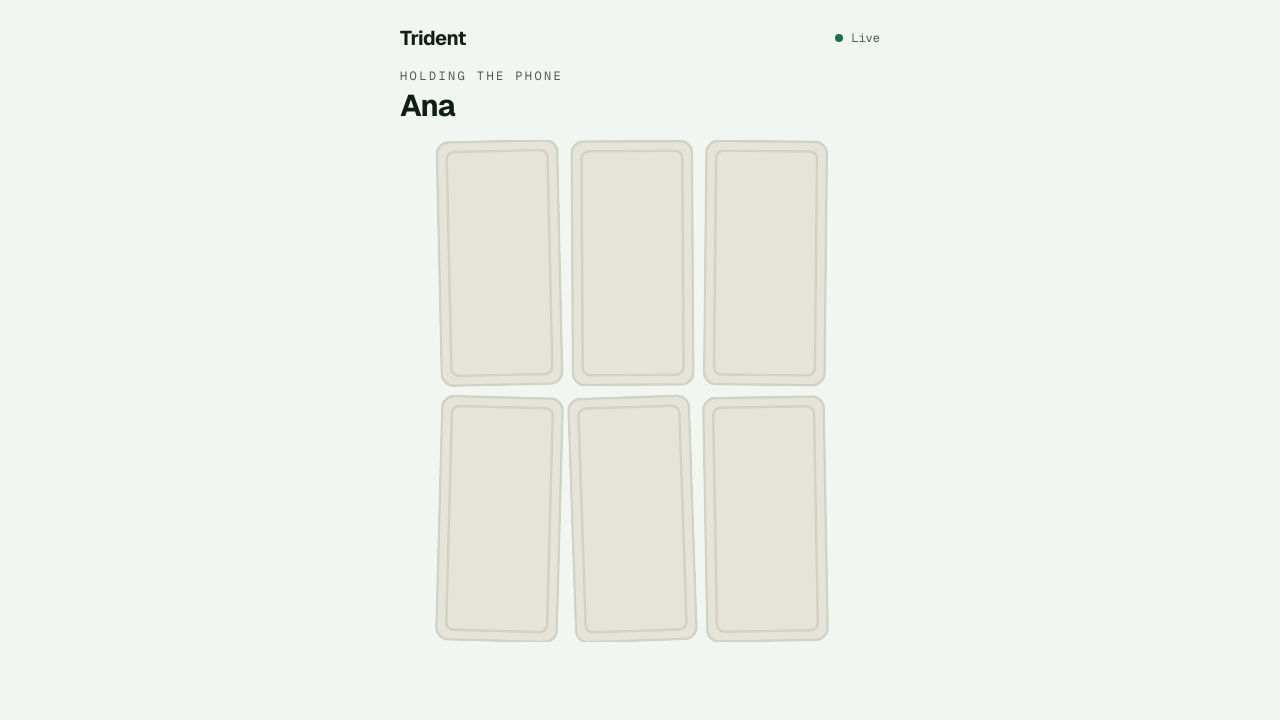
Scenario: the phone screen › paints the drawn face and that version's cards, and no board, after a draw
Expected: the element showing "Holding the phone Ana" is shown, [400,68,563,125]
Click the 3rd button: (766, 263) [704,140,827,386]
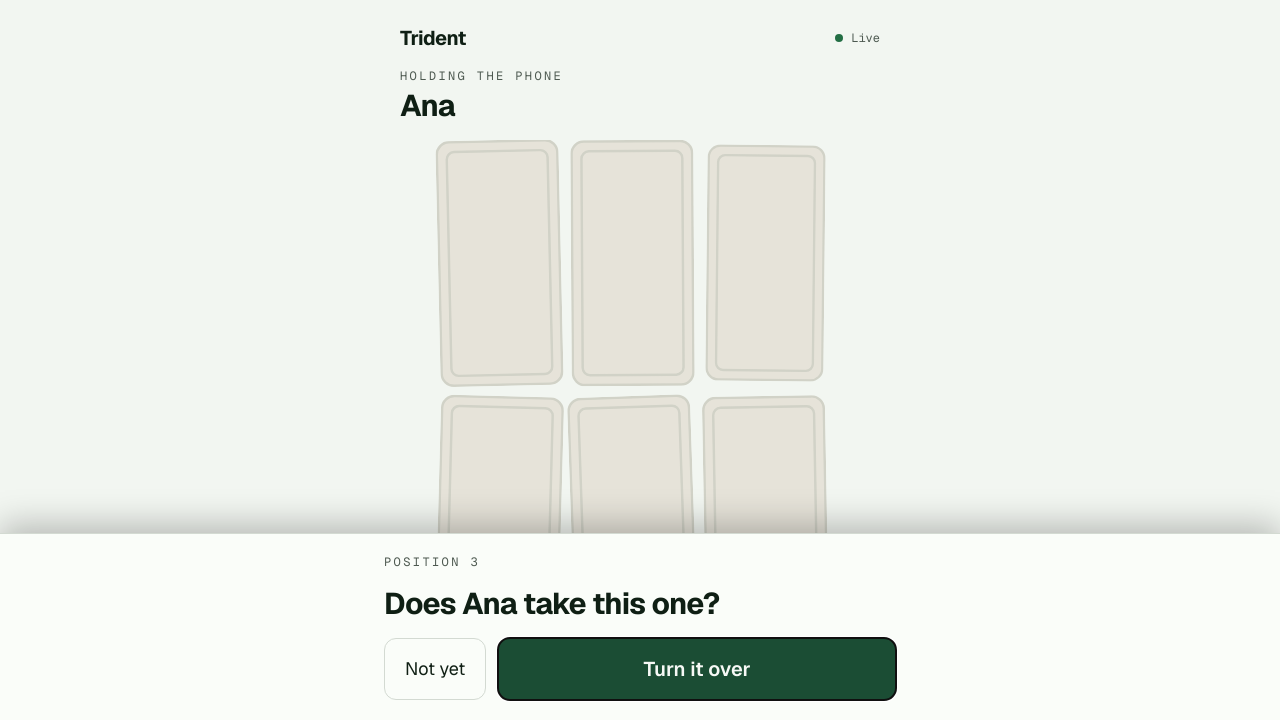
Click the button "Turn it over": (697, 669) [498,638,896,700]
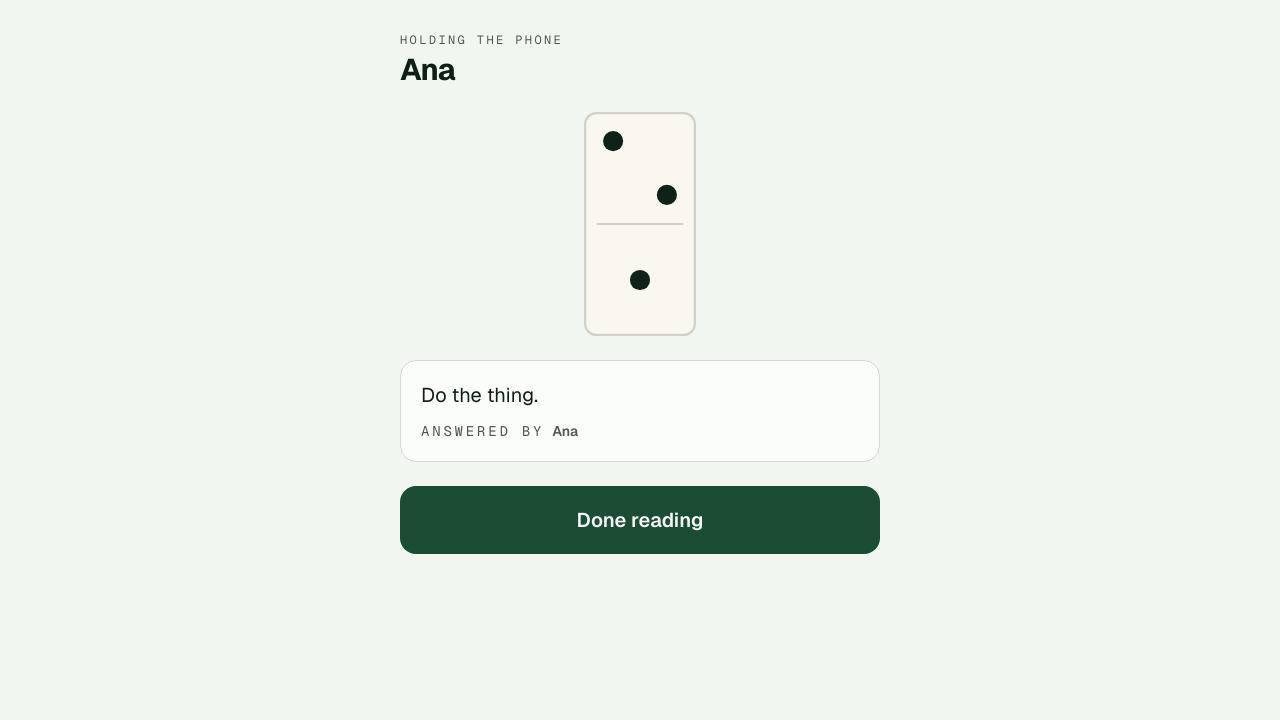
Expected: the element that starts with "Holding the phone" is shown, [384,0,896,586]
